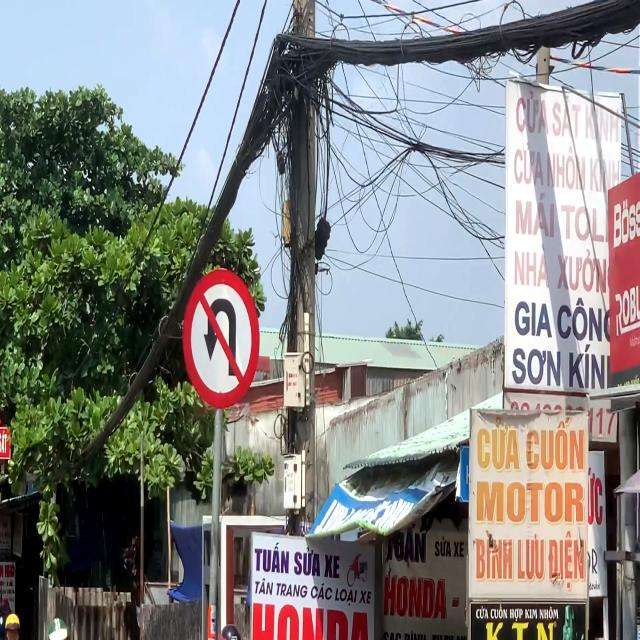P.124a: (182, 268, 260, 409)
